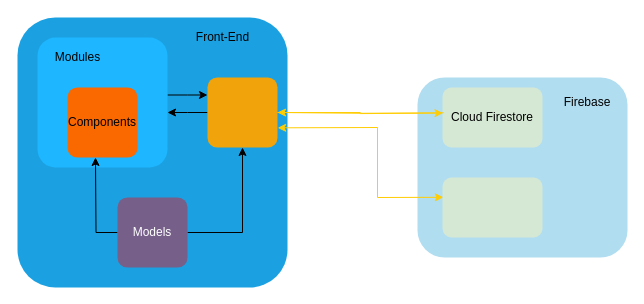
The diagram is 644 pixels wide and 304 high, and some of its shapes have lost their labels. Each missing label, with the centre of its shape:
Firebase Auth: point (492, 207)
Services: point (242, 112)
